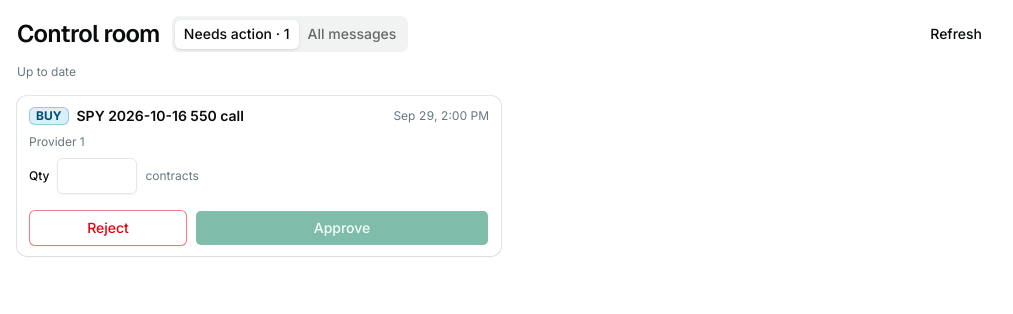
Test: control room › approves with the typed qty, and holds new cards behind the pill
Expected: the button "Approve" is disabled, [195,210,489,246]
Type "2" into the number field labelled "Qty" at (98,176), box [58,158,138,194]
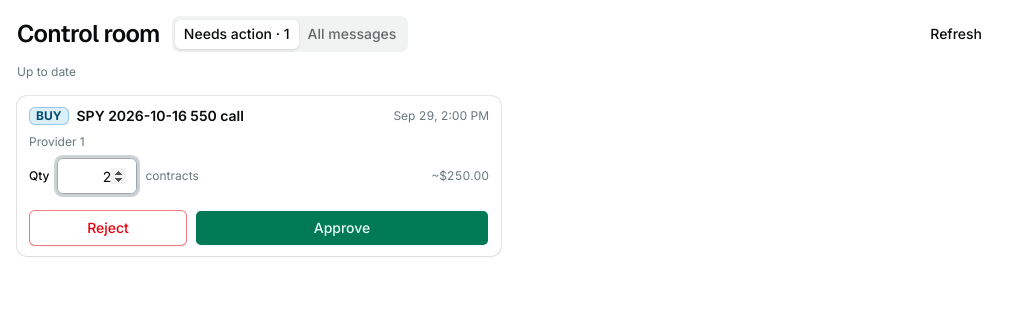
Click the button "Approve" at (342,228), box [195,210,489,246]
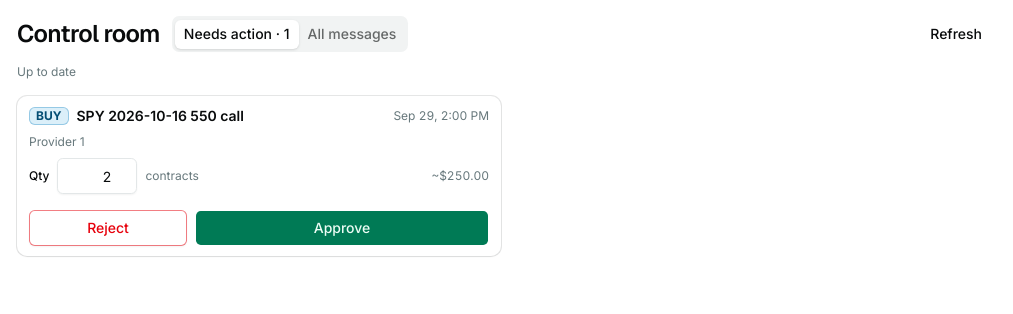
Click the button "Refresh" at (956,34), box [919,18,993,50]
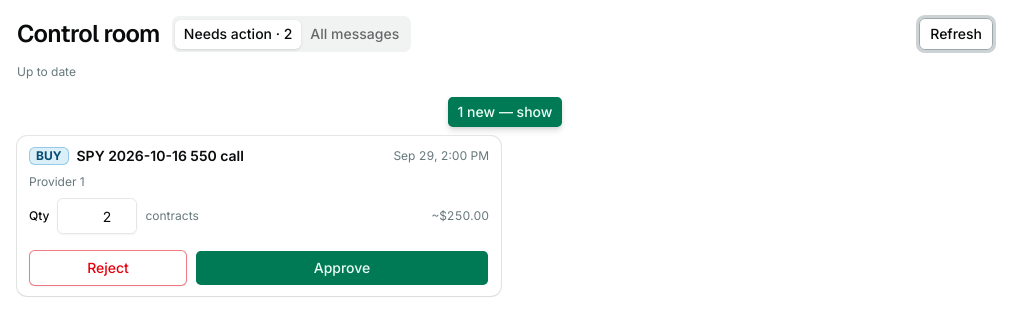
Click the button "1 new — show" at (505,112), box [447,96,563,128]
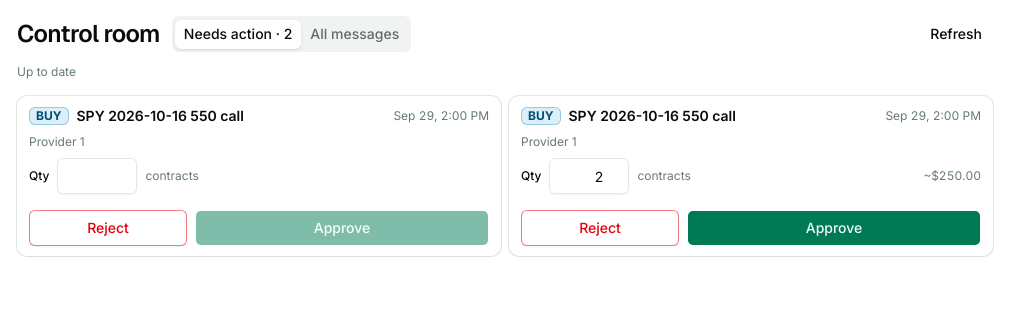
Now the element named "entry QQQ" is shown, box [17,96,501,256]
